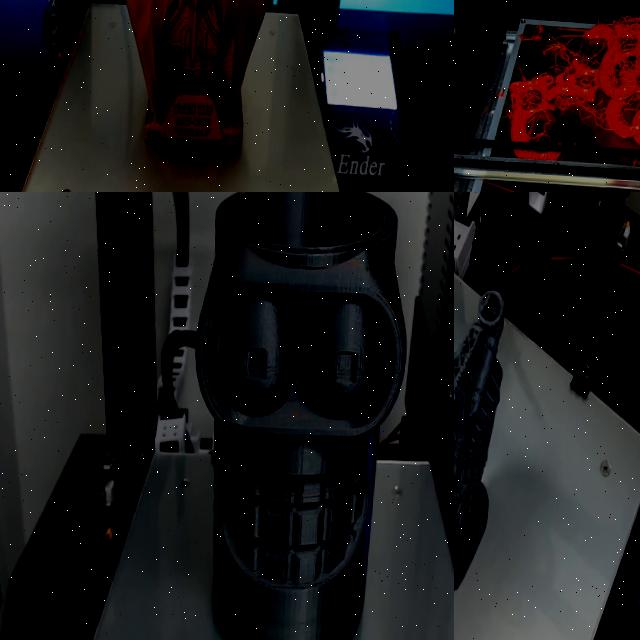spaghetti: (490, 0, 640, 175)
